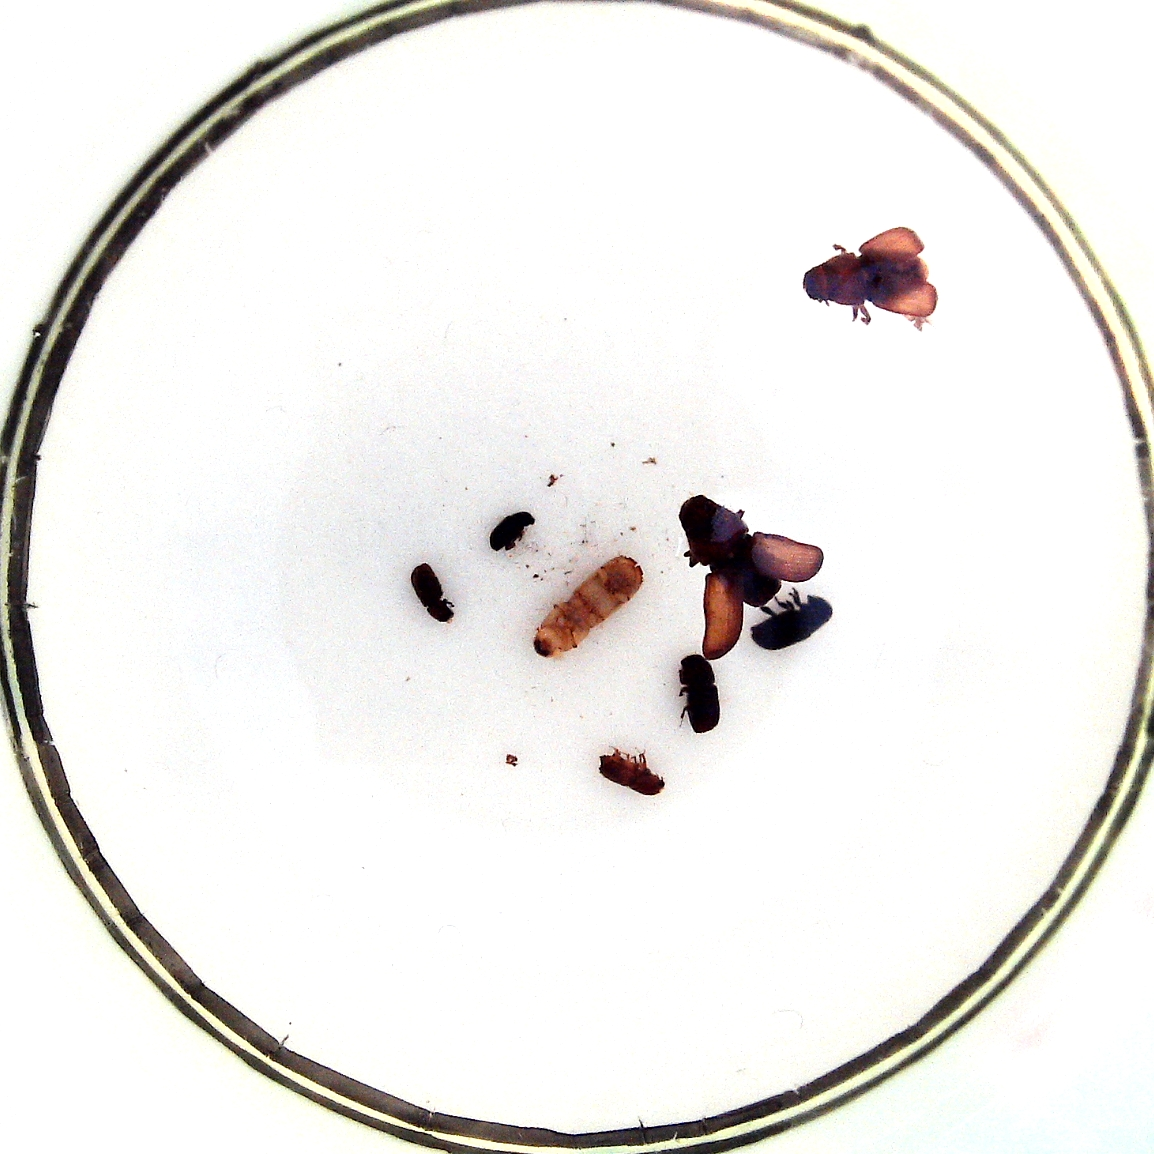Boerner: (534, 556, 643, 658)
Leconte: (680, 494, 783, 607), (803, 252, 929, 308)
acuminatus: (411, 564, 453, 622), (489, 511, 535, 551)
armandi: (751, 594, 833, 650)
coleoptera: (598, 753, 665, 796)
linnaeus: (680, 654, 719, 734)
